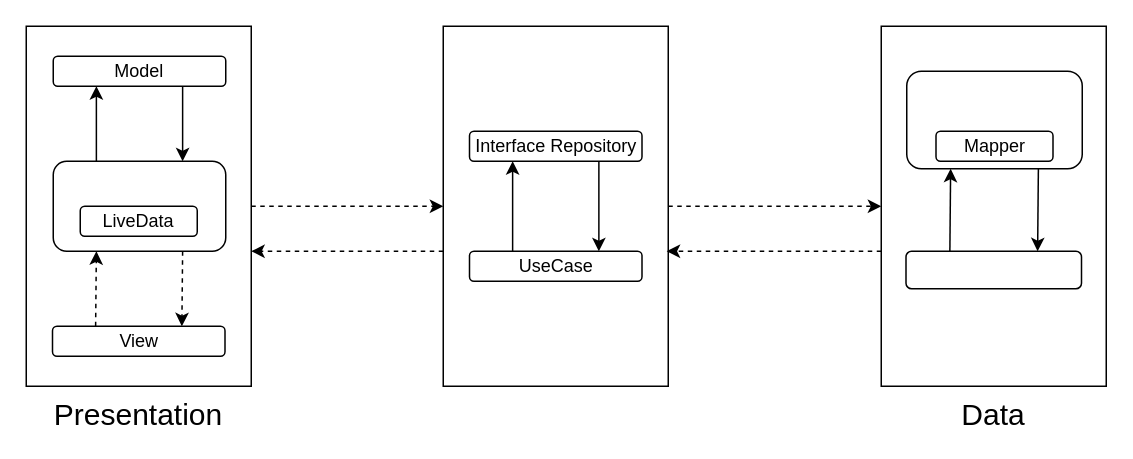
Some shapes in this 1133 by 459 pixel diagram are drawn without their labels. The shapes that lost their labels are listed below. From the top down, each one's box as (x1, y1, x2, y2) in pixels, then its label:
(905, 70, 1082, 169): Repository
(52, 160, 226, 251): ViewModel
(442, 25, 668, 386): Domain
(904, 250, 1082, 289): Remote DataSource
